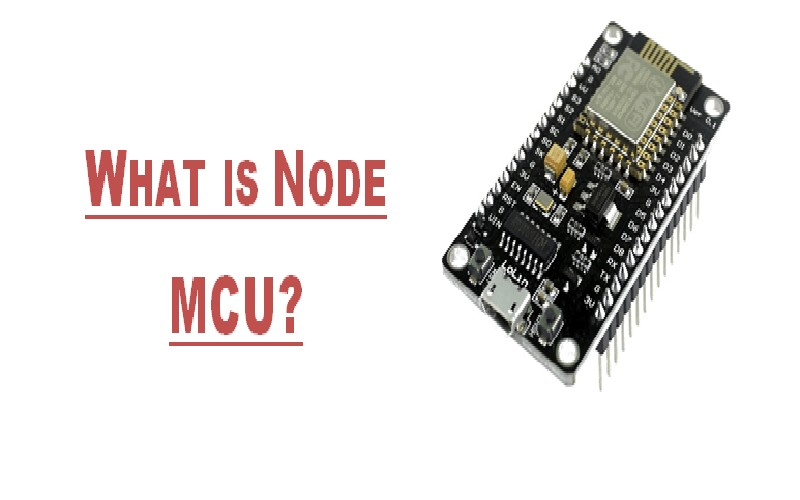IoT Sensor: (419, 17, 743, 408)
